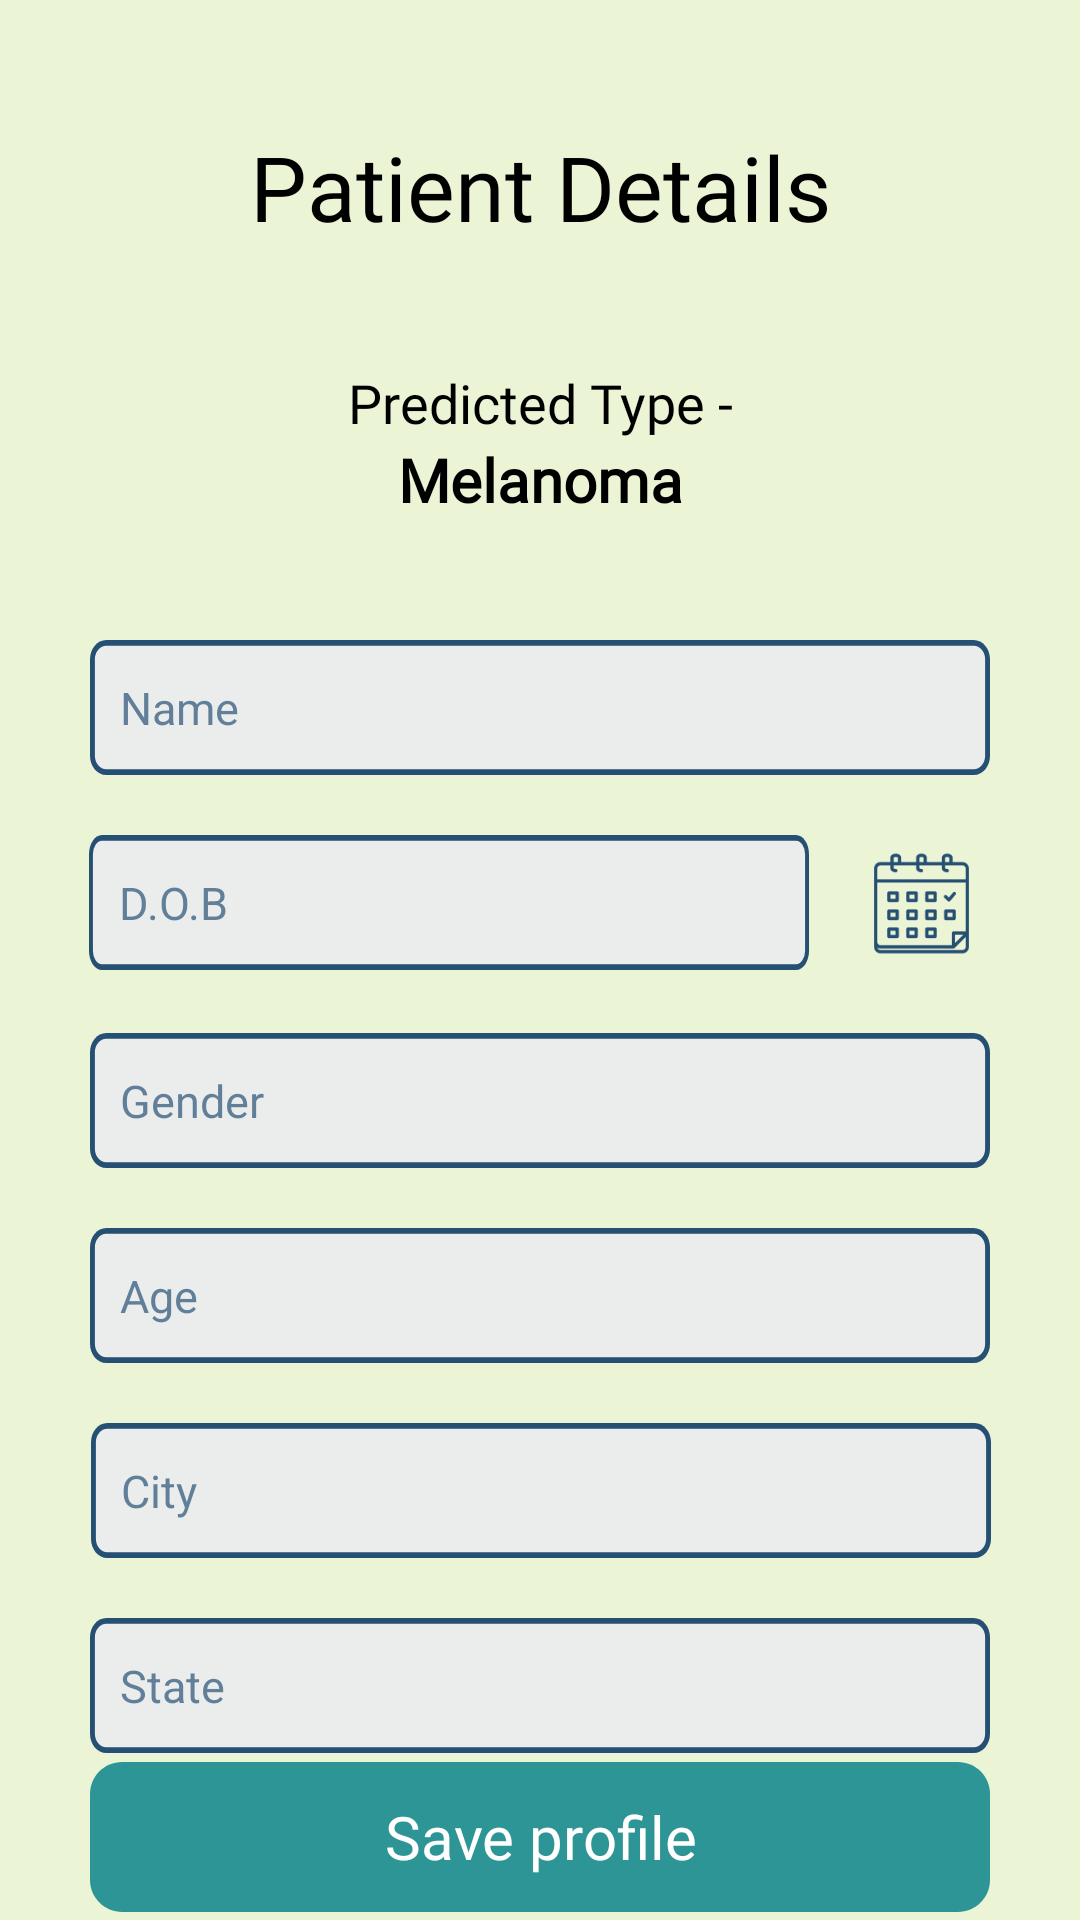

Where icons sit on this 1080px×1920px app screen, as BBox(x1, y1, x2, y2):
calendar: BBox(874, 853, 969, 954)
